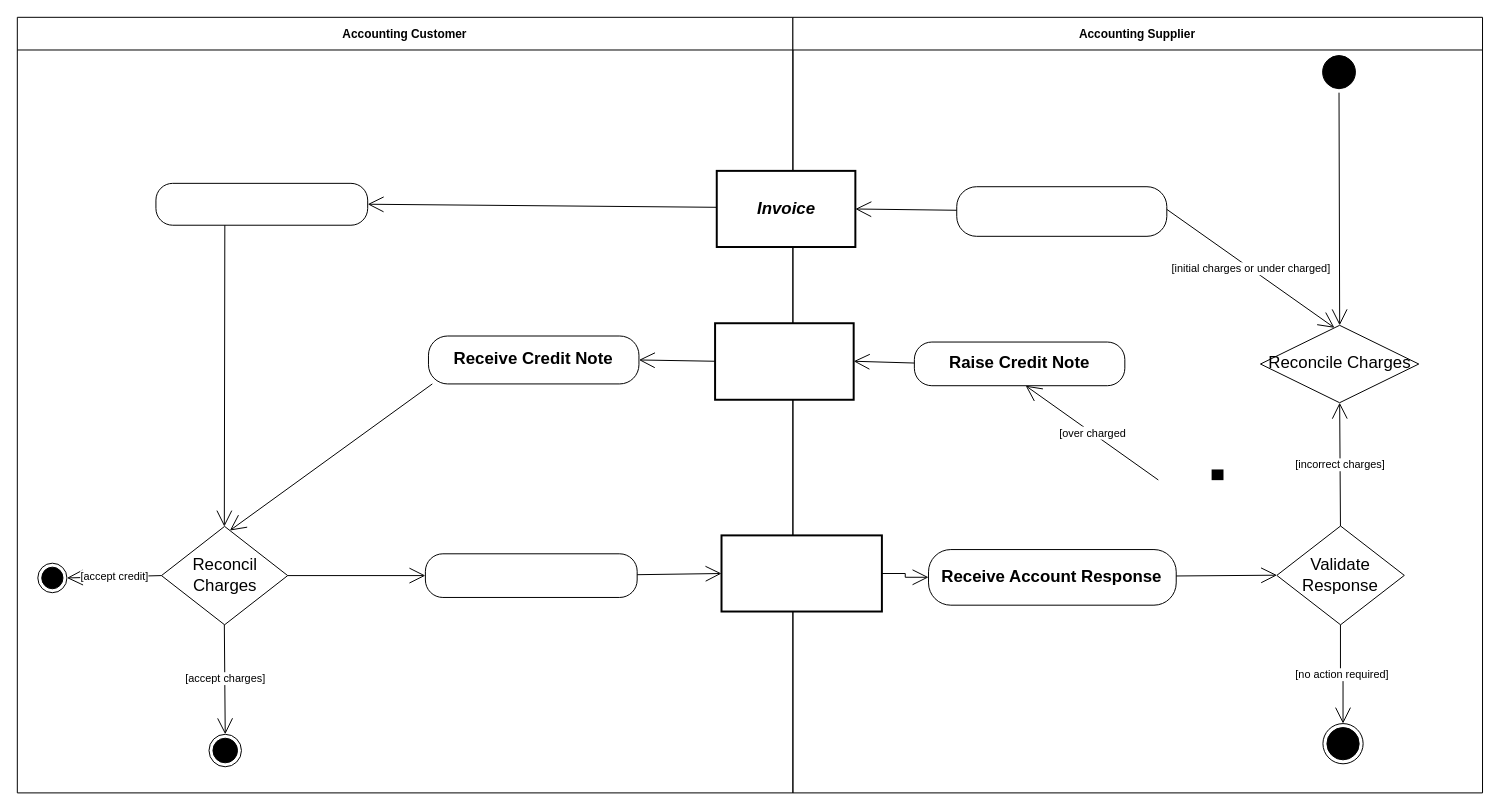
The diagram is 1500 pixels wide and 811 high, and some of its shapes have lost their labels. Each missing label, with the centre of its shape:
"Credit Note" goes at (784,361).
"Invoice Status Response" goes at (801,573).
"Raise Invoice" goes at (1061,211).
"Receive Invoice" goes at (261,203).
"Send Account Response" goes at (530,575).
